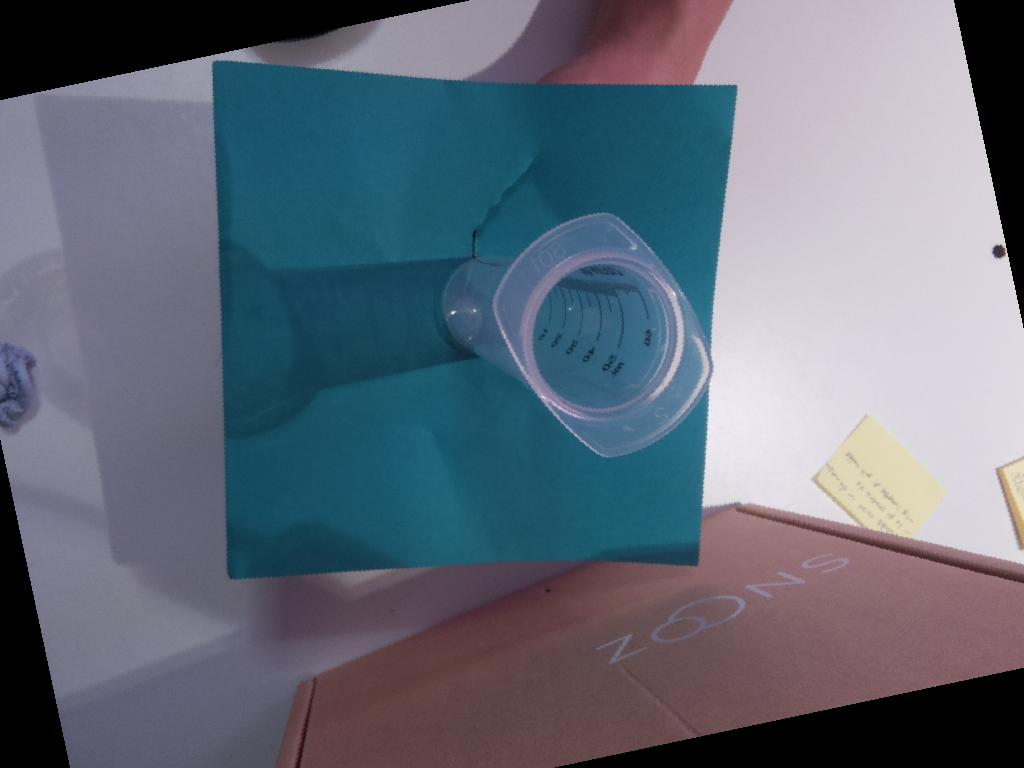clean: (492, 208, 712, 460)
